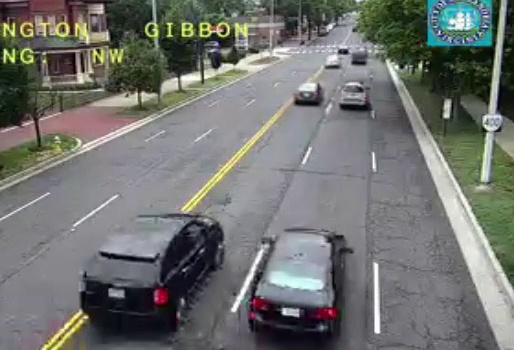car: (79, 213, 224, 321), (248, 227, 346, 336), (338, 81, 367, 107), (294, 83, 321, 104)
